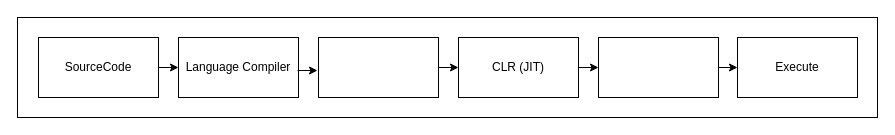
Some shapes in this 895 by 135 pixel diagram are drawn without their labels. Here are the shapes that lost their labels. From the top down, the centre of each, then its label:
At pixel 378 67: "MSIL IL Managed Code".
At pixel 658 67: "Native Code".
